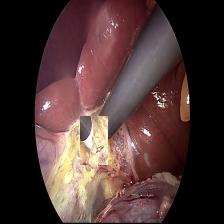Hook: (81, 117, 108, 165)
